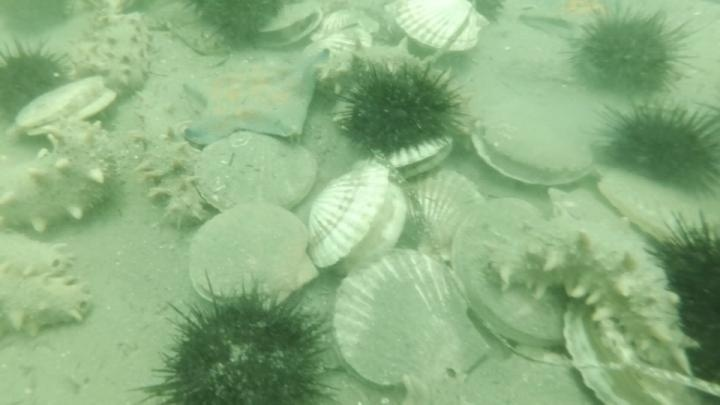echinus: (140, 279, 341, 404), (331, 57, 472, 175), (639, 207, 720, 379), (564, 4, 698, 105), (591, 97, 720, 198), (1, 38, 73, 121), (183, 1, 284, 52), (396, 368, 495, 405), (1, 1, 75, 37), (469, 1, 507, 27)
holothurian: (476, 208, 704, 385), (1, 114, 125, 239), (132, 73, 215, 233), (312, 36, 440, 101), (76, 1, 156, 100), (1, 262, 95, 341), (1, 228, 79, 284), (123, 1, 204, 35)
scallop: (332, 257, 496, 405), (452, 200, 567, 351), (183, 200, 321, 319), (561, 298, 713, 405), (463, 85, 604, 194), (299, 157, 411, 278), (588, 164, 718, 251), (190, 132, 319, 217), (386, 170, 491, 263), (16, 73, 121, 136), (383, 1, 493, 61), (255, 1, 329, 51), (386, 130, 457, 182)
starfish: (178, 47, 328, 151), (518, 1, 616, 36)
